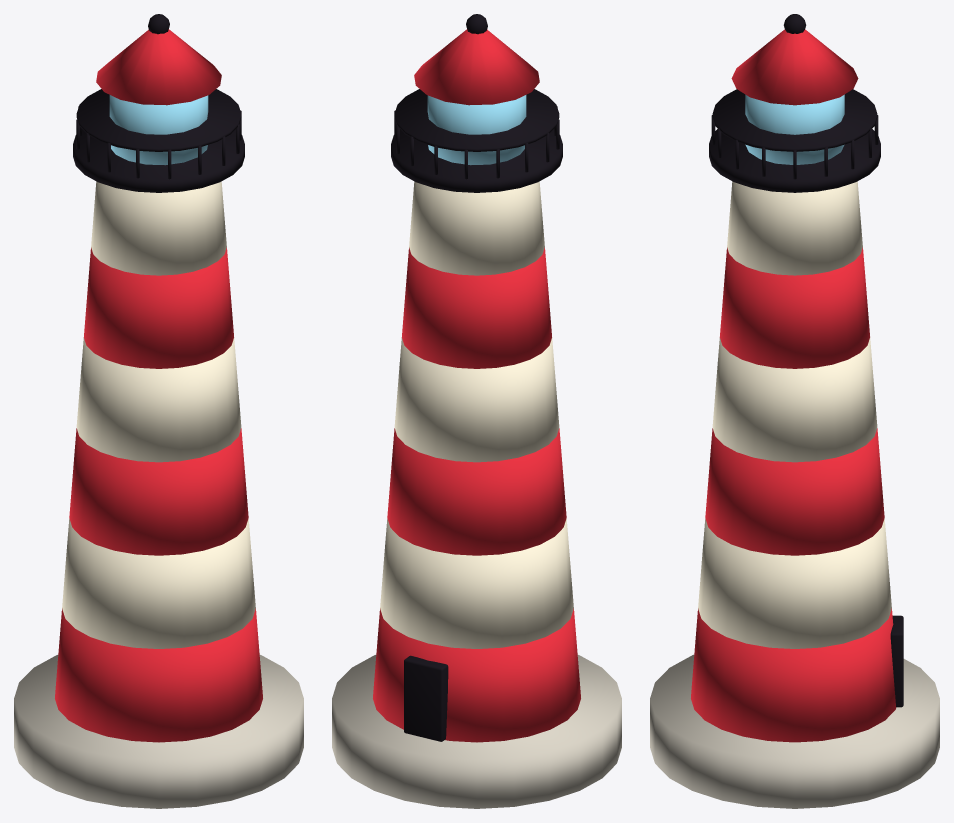
The model's file is lighthouse.glb.
The picture shows the model from 3 angles, left to right: view 1: azimuth 30°, elevation 25°; view 2: azimuth 150°, elevation 25°; view 3: azimuth 270°, elevation 25°; orthographic projection.
Parts seen in each view (by area): view 1: lighthouse_mesh; view 2: lighthouse_mesh; view 3: lighthouse_mesh.
Boxes of the visible parts, <box> form: lighthouse_mesh: <box>14,14,303,808</box>; lighthouse_mesh: <box>332,14,621,808</box>; lighthouse_mesh: <box>650,14,939,808</box>.
Bounding box in the file's own units: 6.4 × 17.85 × 6.4.
